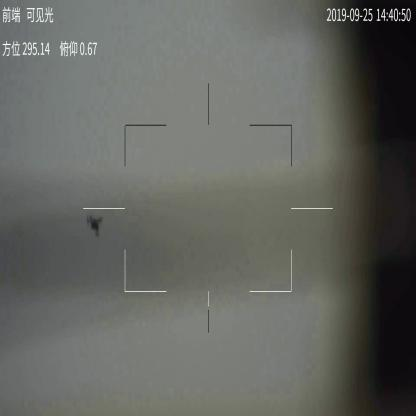uav: (87, 213, 108, 238)
